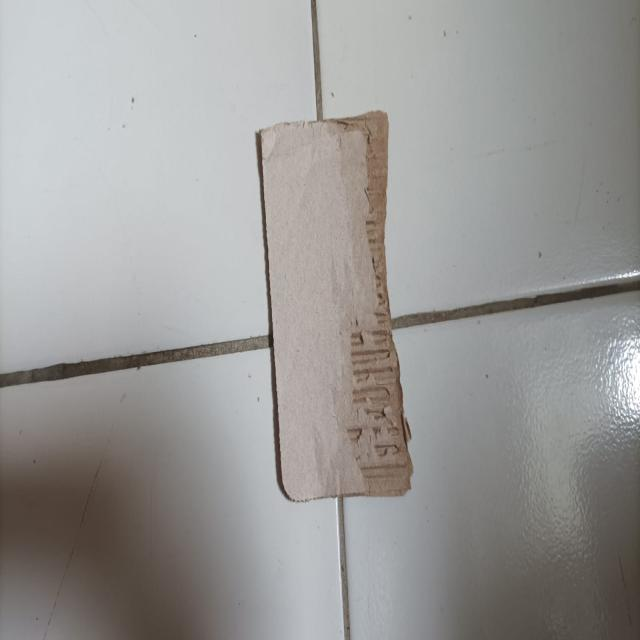Organik: (261, 113, 412, 498)
